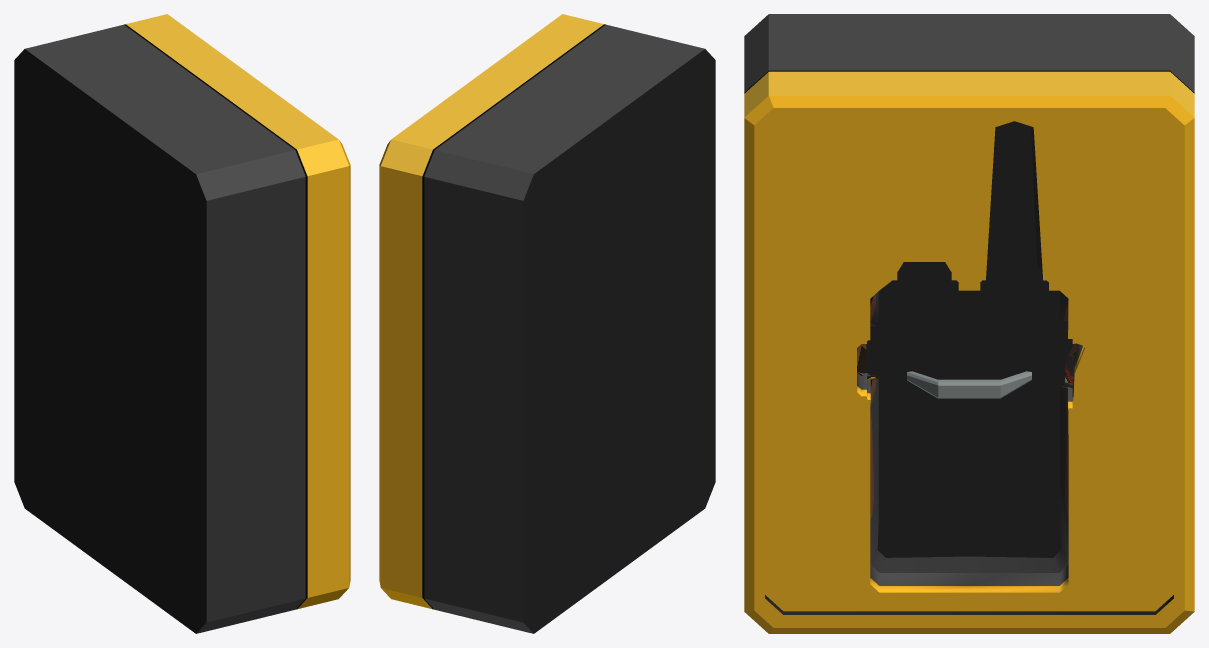
The model's file is StructureRadioStorage.fbx.
The picture shows the model from 3 angles, left to right: view 1: azimuth 30°, elevation 25°; view 2: azimuth 150°, elevation 25°; view 3: azimuth 270°, elevation 25°; orthographic projection. The views are drawn at different scales.
Parts seen in each view (by area): view 1: StructureRadioStorage; view 2: StructureRadioStorage; view 3: StructureRadioStorage.
Boxes of the visible parts, x1=… form: StructureRadioStorage: x1=14, y1=14, x2=350, y2=633; StructureRadioStorage: x1=379, y1=14, x2=715, y2=633; StructureRadioStorage: x1=744, y1=14, x2=1194, y2=633.
Bounding box in the file's own units: 22.29 × 65.94 × 50.
